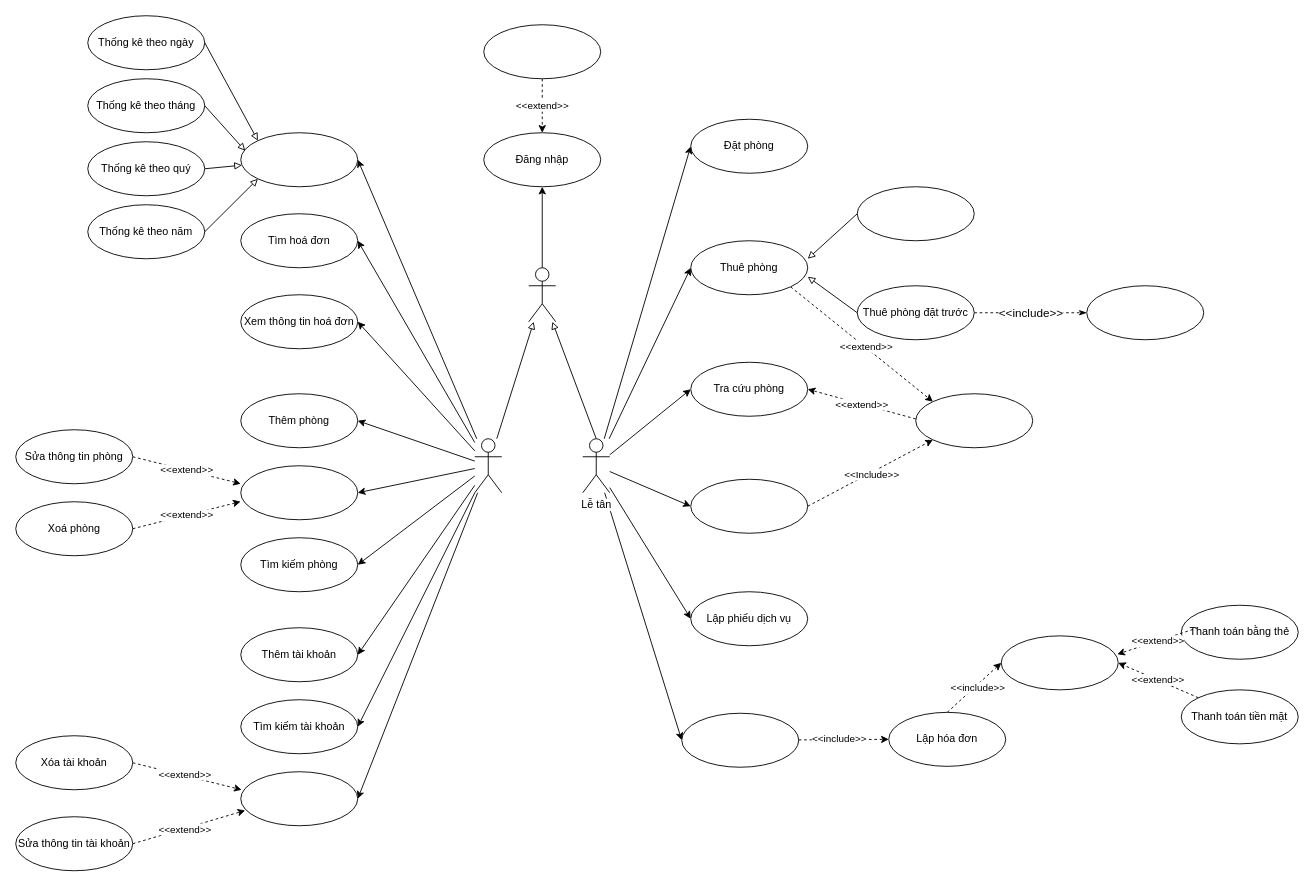
This 1314x887 diagram has some shape labels left out. The box of each missing label's shape, as (x1, y1, x2, y2) in pixels:
Chuyển phòng: (690, 478, 808, 533)
Kiểm tra tình trạng phòng: (915, 393, 1033, 448)
Người dùng: (528, 267, 556, 322)
Quản lý: (474, 438, 502, 493)
Thanh toán: (1000, 635, 1118, 690)
Thuê phòng trực tiếp: (856, 186, 974, 241)
Thống kê doanh thu: (240, 132, 358, 187)
Trả phòng: (681, 712, 799, 767)
Tìm thông tin đặt phòng: (1086, 285, 1204, 340)
Xem thông tin phòng: (240, 465, 358, 520)
Xem thông tin tài khoản: (240, 771, 358, 826)
Đăng xuất: (483, 24, 601, 79)
